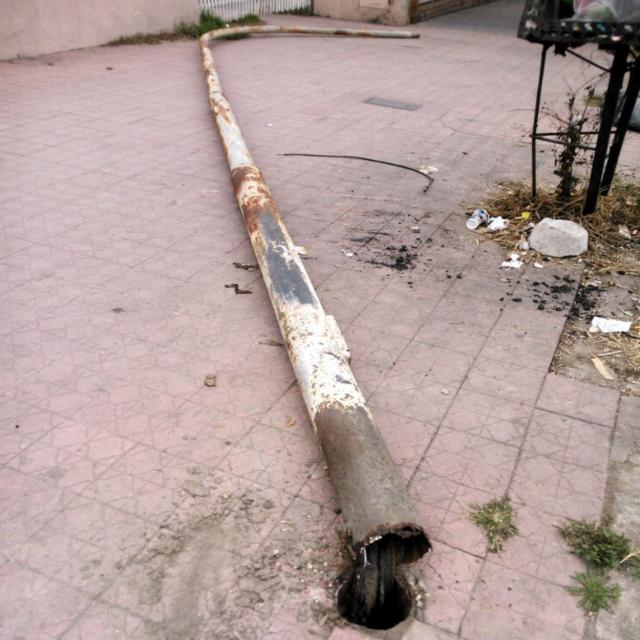Inclined Pole: (202, 23, 440, 567)
